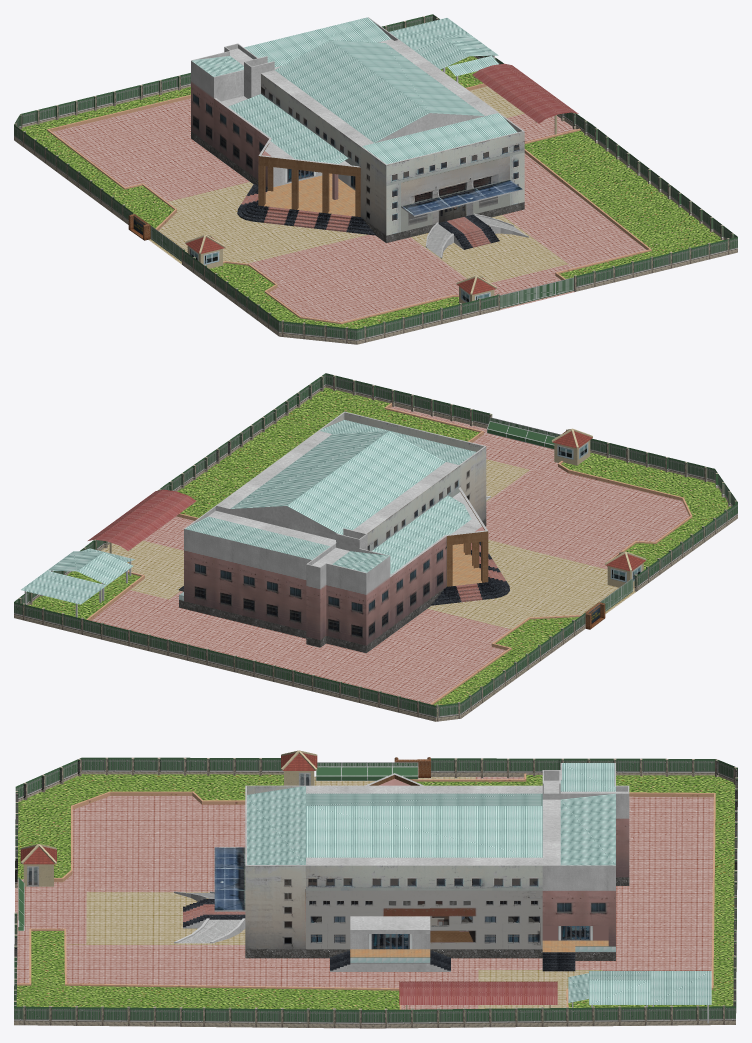
Rendered from TTBDCT.glb.
The picture shows the model from 3 angles, top to bottom: view 1: azimuth 30°, elevation 25°; view 2: azimuth 150°, elevation 25°; view 3: azimuth 270°, elevation 25°; orthographic projection. The views are drawn at different scales.
Parts seen in each view (by area): view 1: Nen, BPH042_TTBDCT, Tuong, BPH042_TTBDCT.001; view 2: Nen, BPH042_TTBDCT, Tuong, BPH042_TTBDCT.001; view 3: Nen, BPH042_TTBDCT, Tuong, BPH042_TTBDCT.001.
Boxes of the visible parts, left/top/right/bottom form: Nen: left=21, top=56, right=723, bottom=328; BPH042_TTBDCT: left=191, top=17, right=528, bottom=258; Tuong: left=14, top=14, right=737, bottom=344; BPH042_TTBDCT.001: left=389, top=18, right=498, bottom=82; Nen: left=28, top=387, right=730, bottom=705; BPH042_TTBDCT: left=178, top=411, right=509, bottom=653; Tuong: left=14, top=373, right=737, bottom=721; BPH042_TTBDCT.001: left=21, top=548, right=134, bottom=617; Nen: left=15, top=762, right=735, bottom=1027; BPH042_TTBDCT: left=174, top=763, right=629, bottom=971; Tuong: left=14, top=750, right=737, bottom=1028; BPH042_TTBDCT.001: left=568, top=971, right=711, bottom=1023.
Size of the model in its own units: 67.76 by 13.95 by 81.56.
4 materials, 4 textured.
